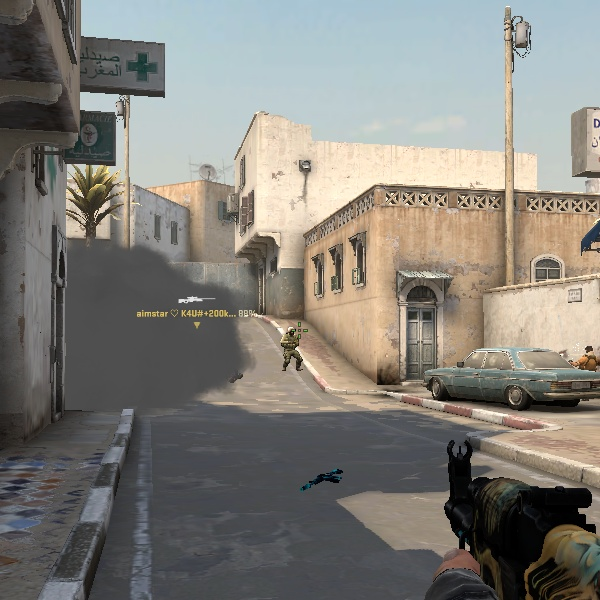ct_body: (279, 324, 303, 372)
